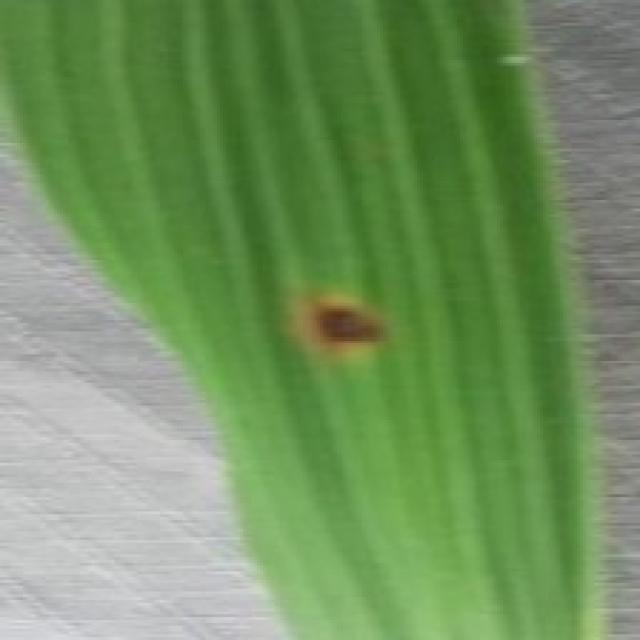Rice___Brown_Spot: (0, 0, 602, 637)
